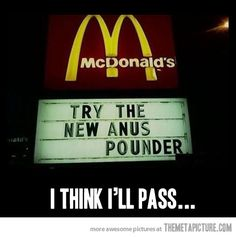mcdonalds: (64, 13, 160, 81), (64, 13, 158, 81)
